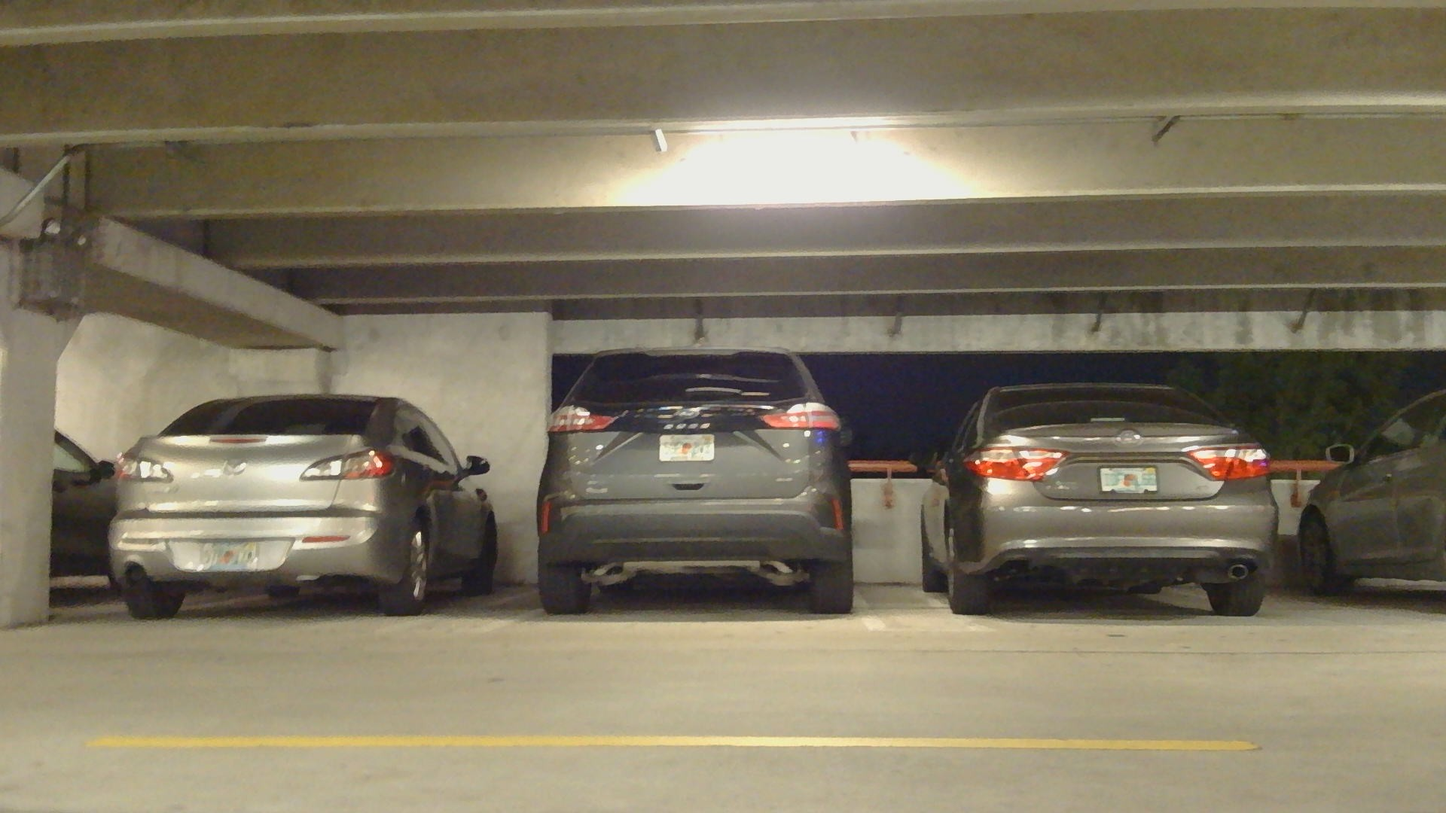occupied_spot: (103, 386, 497, 625), (906, 370, 1282, 620), (534, 345, 863, 626), (1292, 379, 1445, 604)
